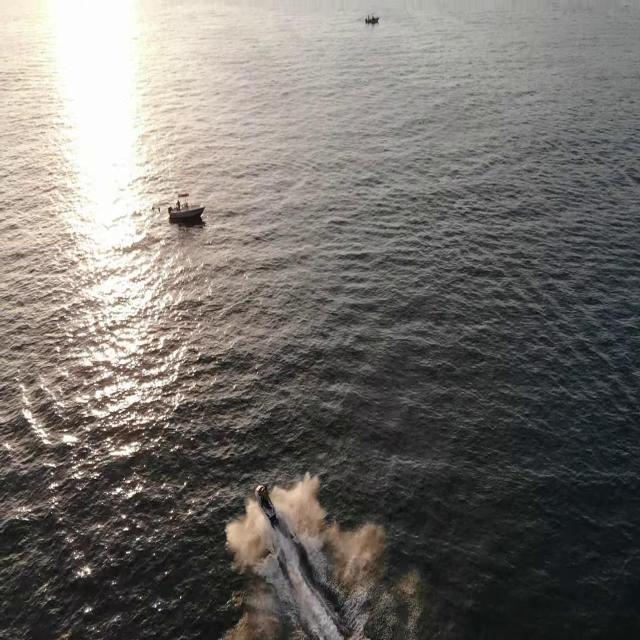boat: (167, 188, 206, 225), (254, 482, 278, 523)
